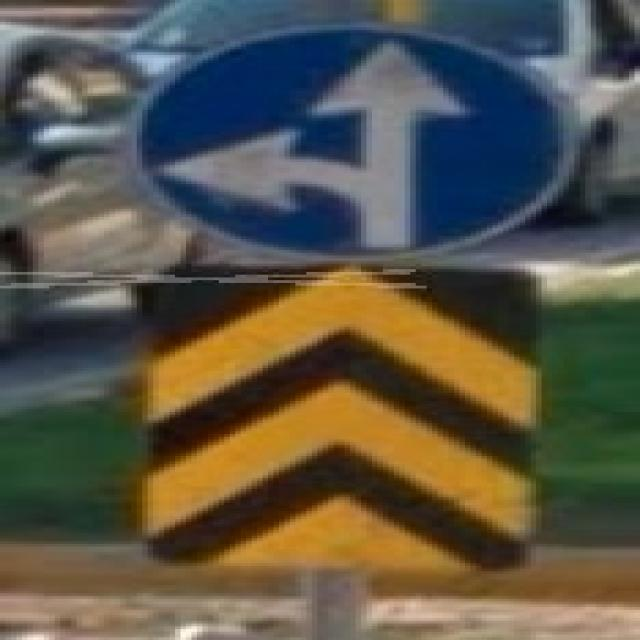Straight or Left: (133, 26, 576, 262)
